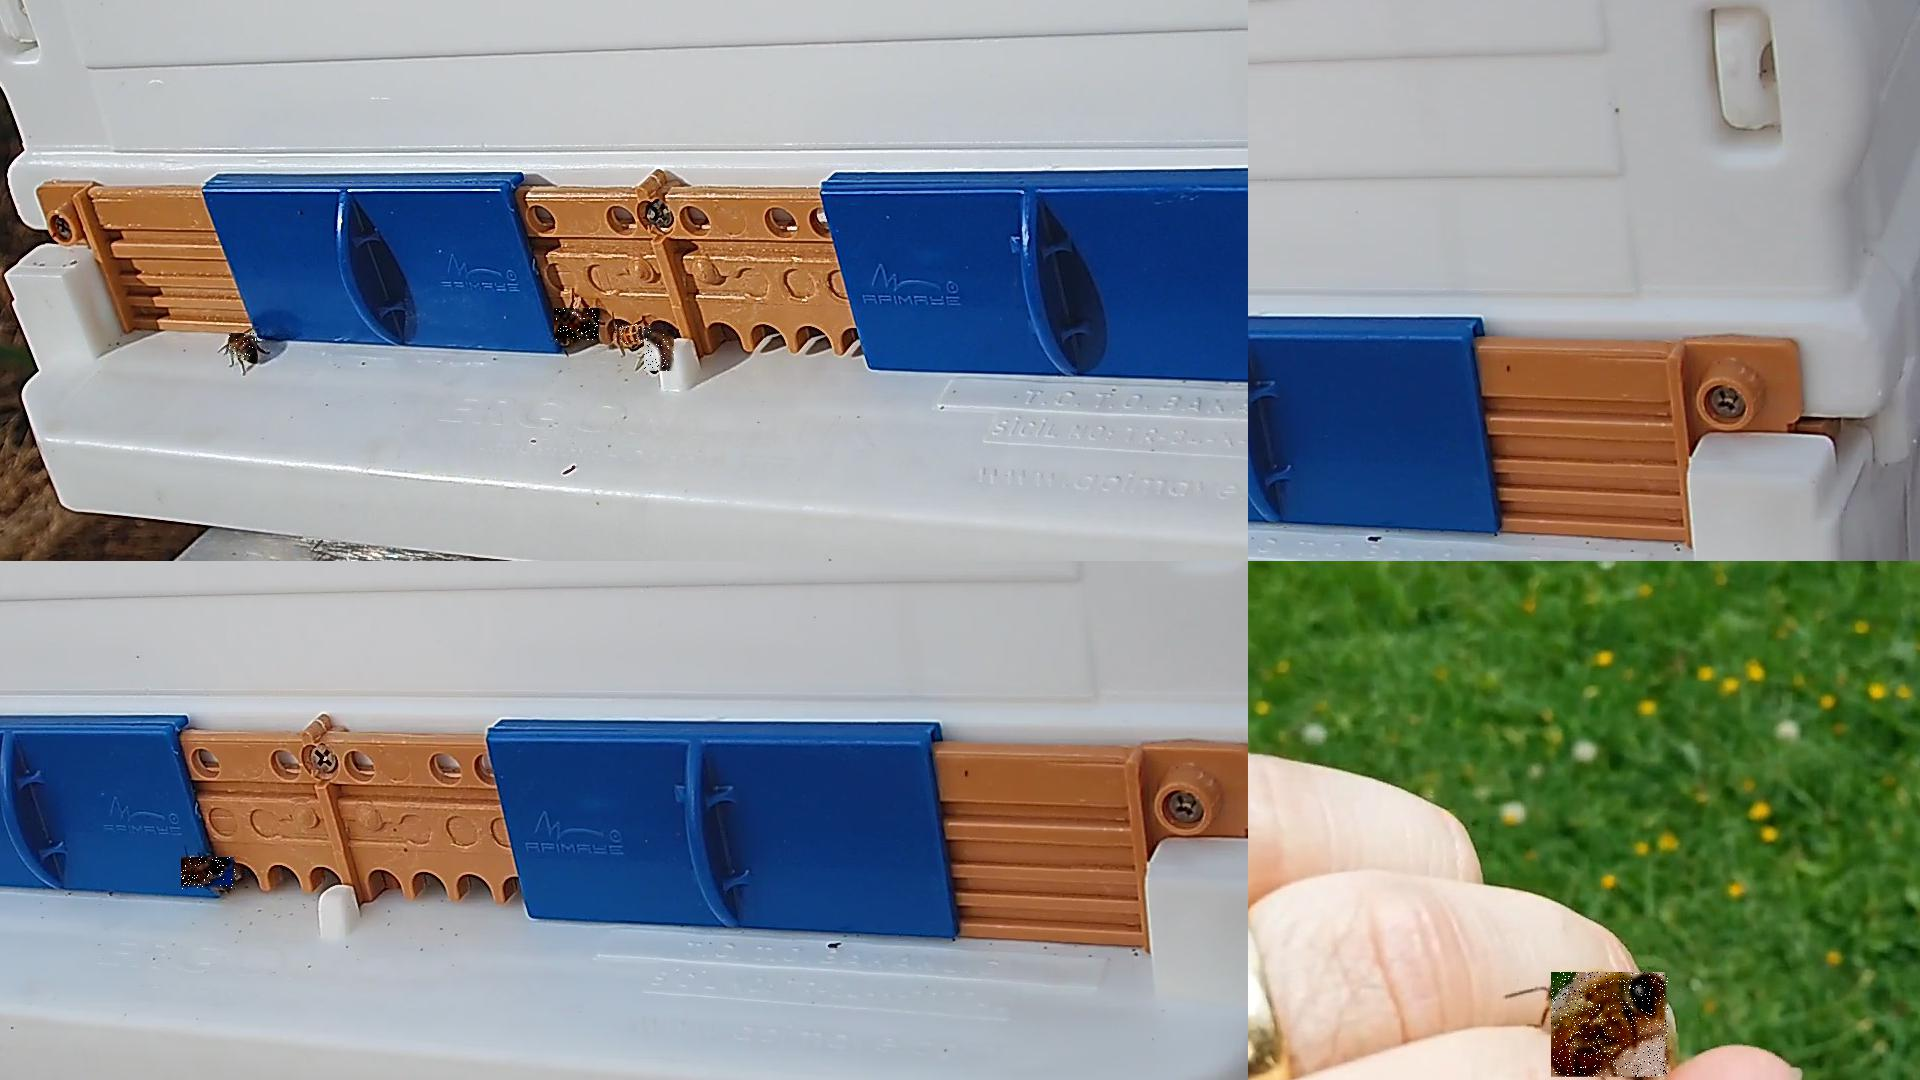bee: (182, 857, 237, 890), (554, 309, 600, 343), (644, 330, 675, 372), (613, 324, 651, 345), (229, 334, 258, 361)
drone: (1552, 972, 1669, 1079)
